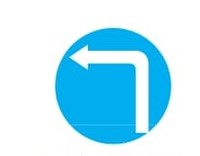Turn_left: (53, 27, 173, 146)
